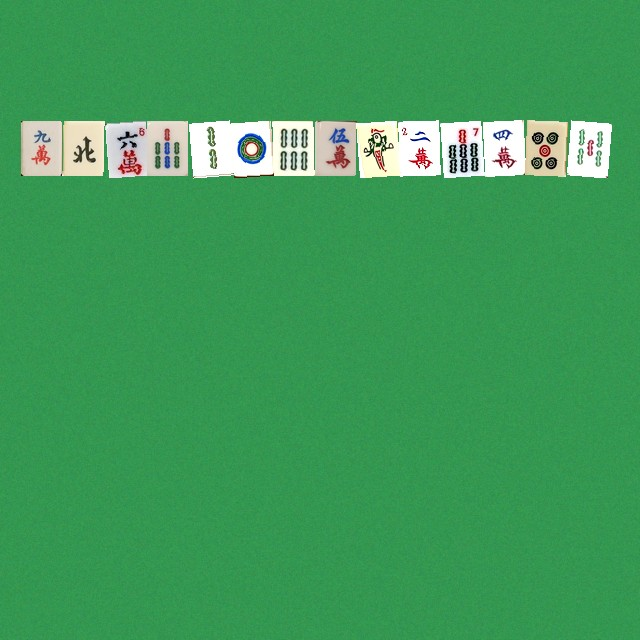tile: (20, 120, 61, 175), (62, 120, 103, 175), (104, 120, 145, 175), (146, 120, 187, 175), (188, 120, 229, 175), (230, 120, 271, 175), (272, 120, 313, 175), (314, 120, 355, 175), (356, 120, 397, 175), (398, 120, 439, 175), (440, 120, 481, 175), (482, 120, 523, 175), (524, 120, 565, 175), (566, 120, 607, 175)
